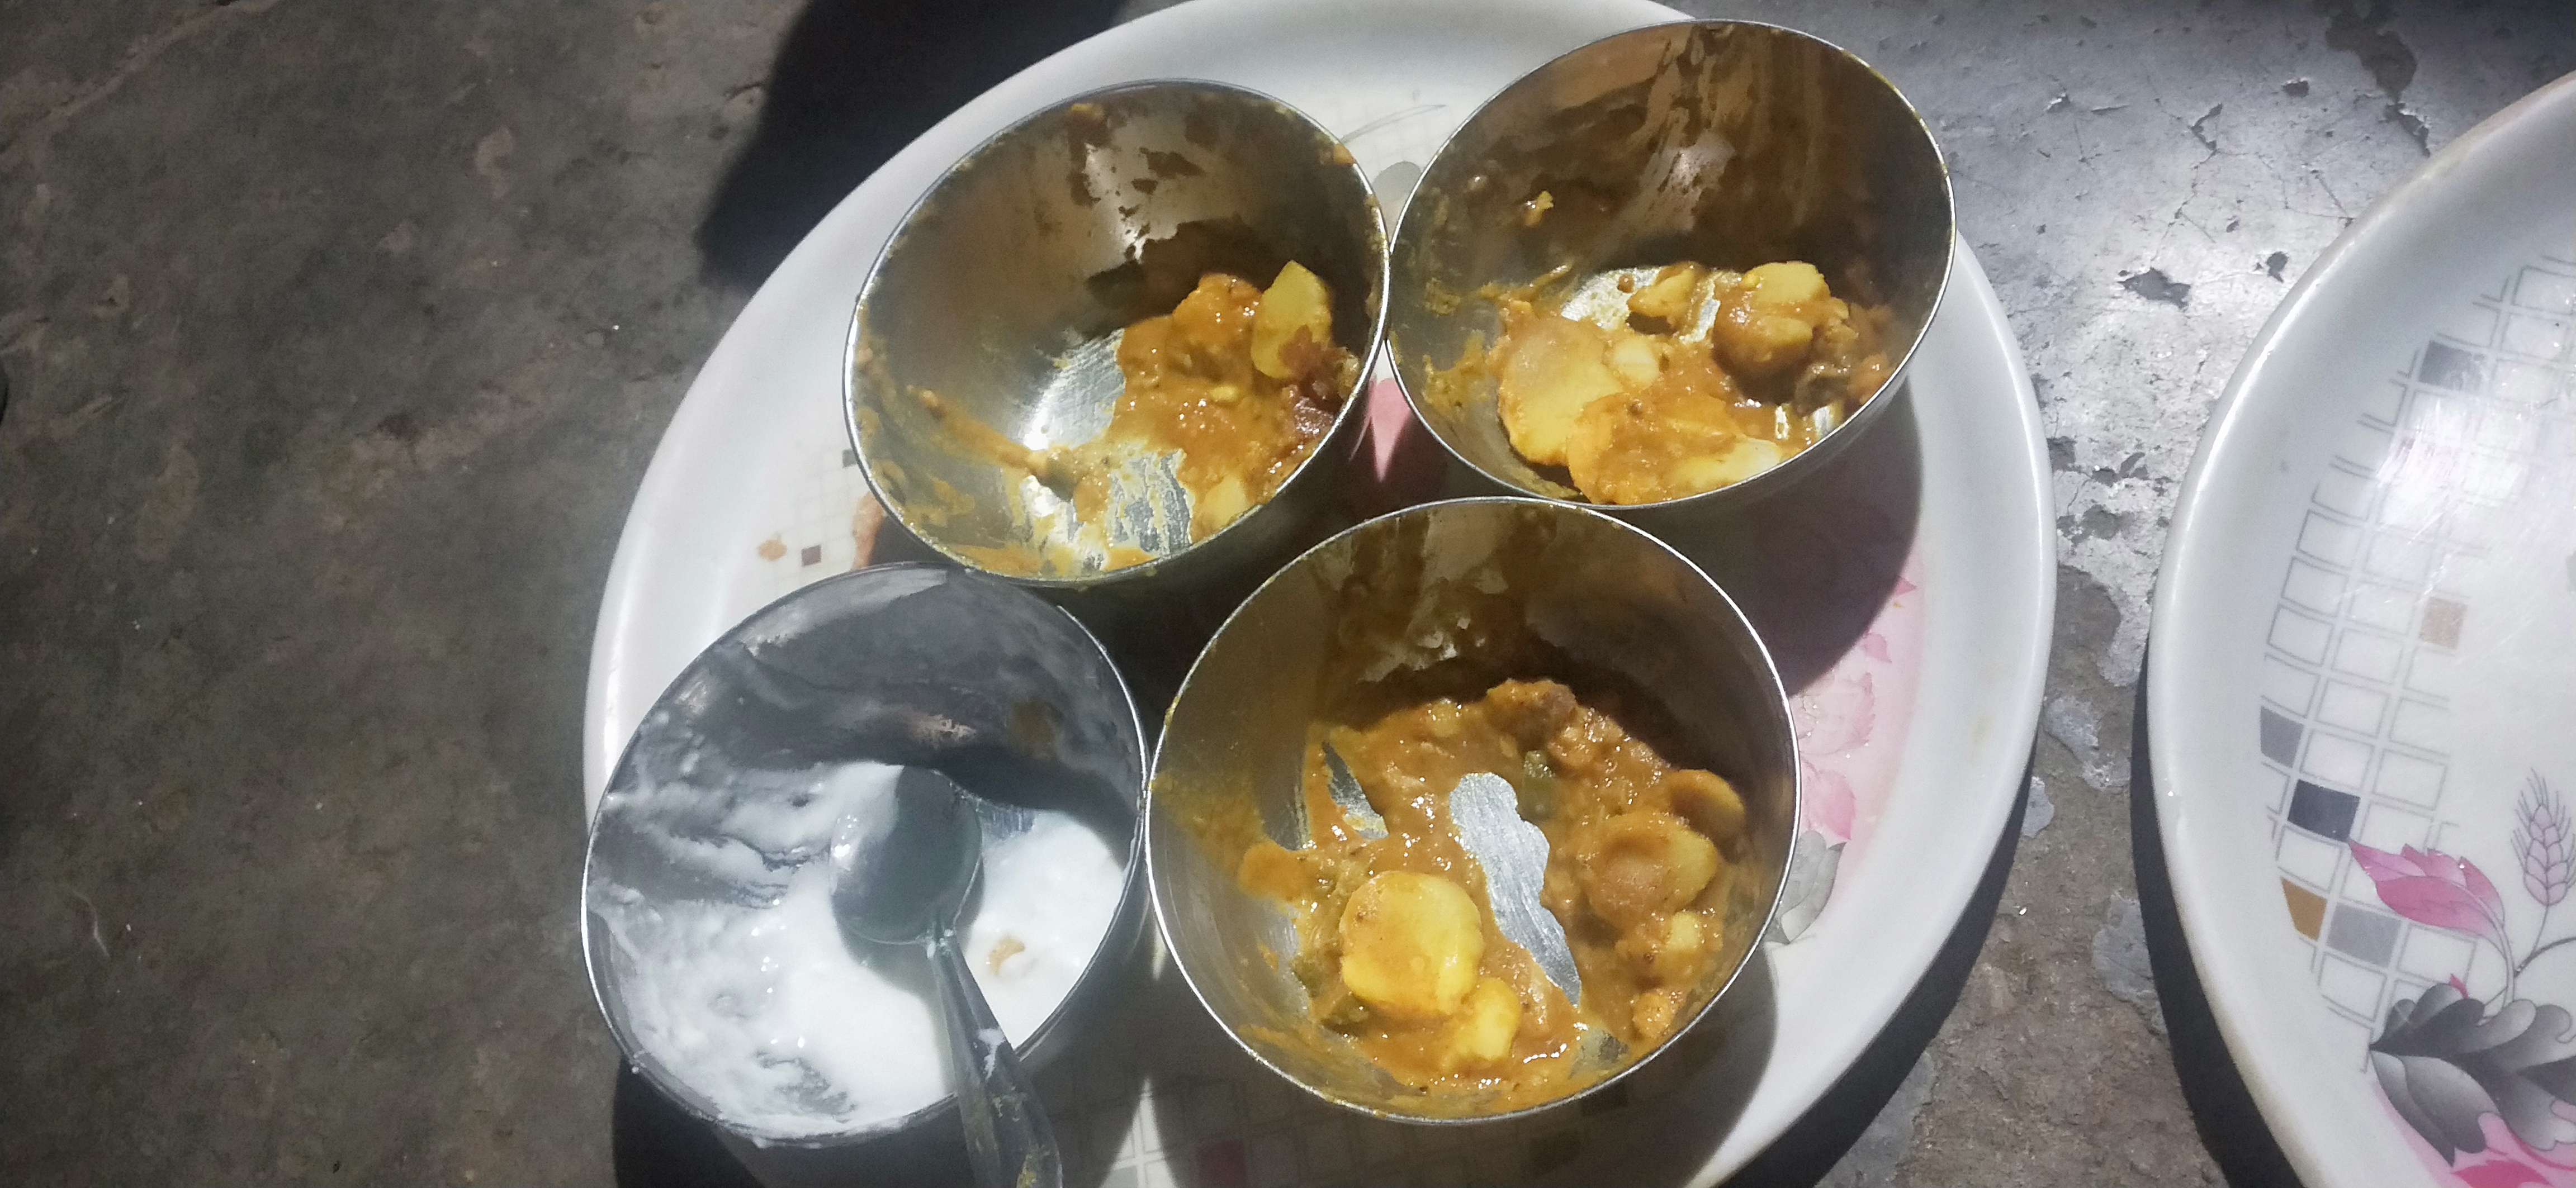food: (1138, 491, 1804, 1132), (572, 559, 1148, 1153), (1382, 12, 1965, 519), (838, 69, 1395, 592)
